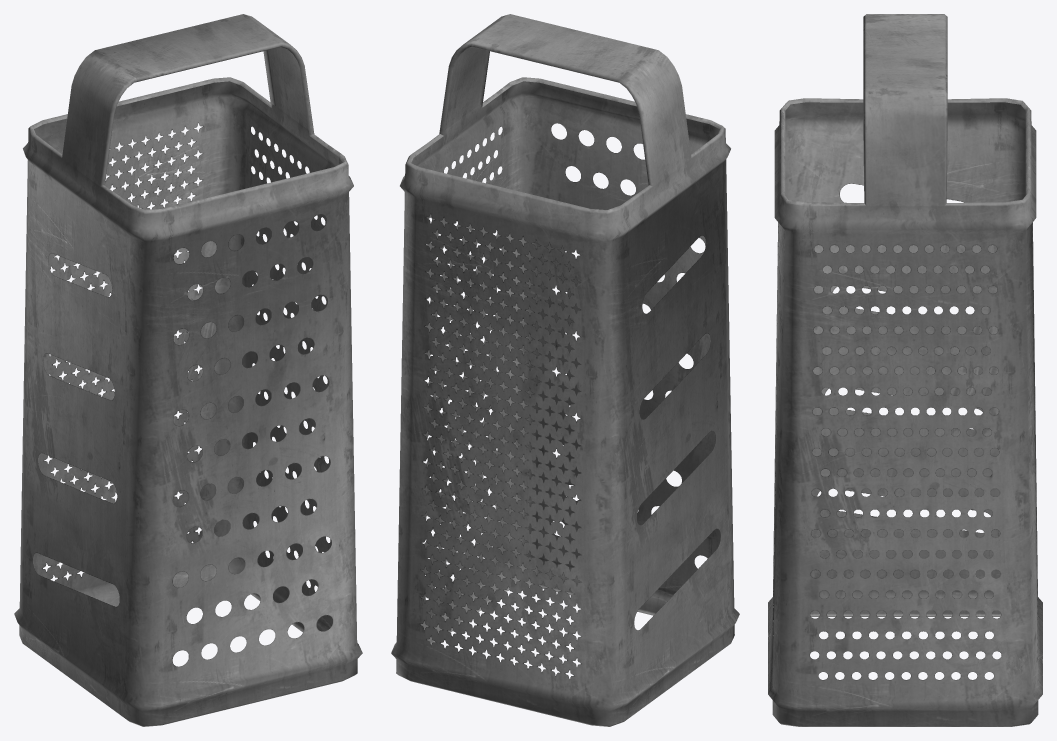
Rendered from grater.dae.
The picture shows the model from 3 angles, left to right: view 1: azimuth 30°, elevation 25°; view 2: azimuth 150°, elevation 25°; view 3: azimuth 270°, elevation 25°; orthographic projection.
Parts seen in each view (by area): view 1: Grater_Clean; view 2: Grater_Clean; view 3: Grater_Clean.
Part boxes in pixels (x1,y1,x2,y2): Grater_Clean: (14,14,362,726); Grater_Clean: (391,14,739,726); Grater_Clean: (768,14,1042,726).
Size of the model in its own units: 0.0723 by 0.0723 by 0.1804.
Materials: 1 (1 with a texture image).
